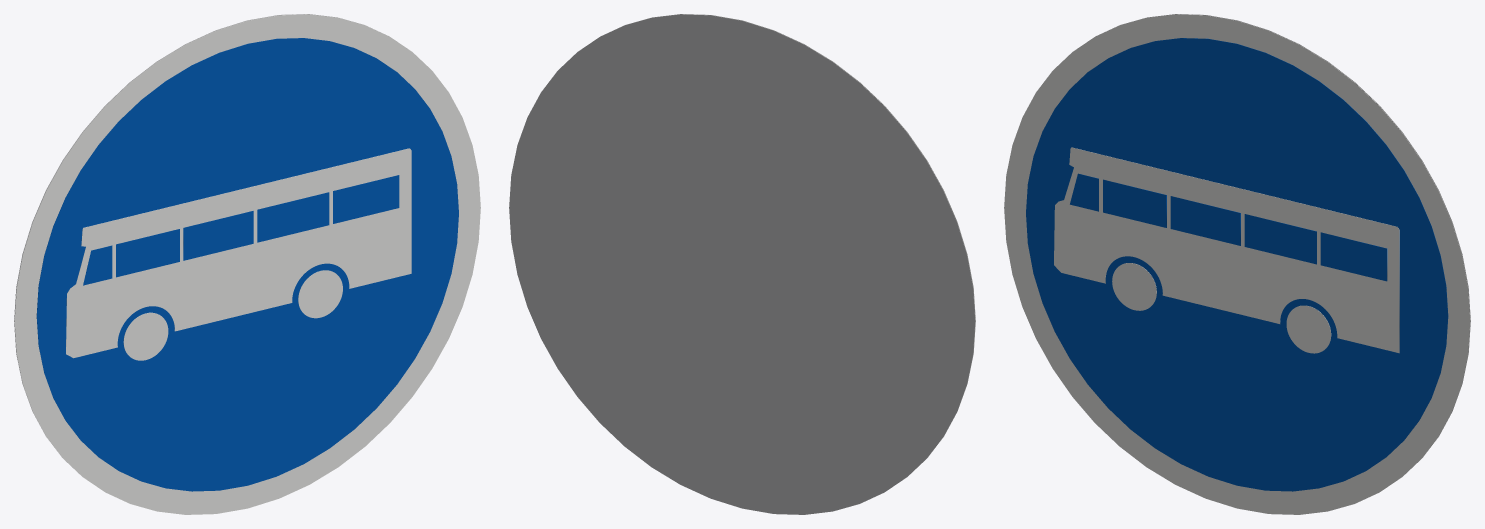
The picture shows the model from 3 angles, left to right: view 1: azimuth 30°, elevation 25°; view 2: azimuth 150°, elevation 25°; view 3: azimuth 330°, elevation 25°; orthographic projection.
Visible parts, largest first — view 1: B27a_p01, B27a_p00, B27a_p06, B27a_p08, B27a_p09, B27a_p07, B27a_p10, B27a_p05, B27a_p04, B27a_p11, B27a_dos; view 2: B27a_dos, B27a_p00; view 3: B27a_p01, B27a_p00, B27a_p06, B27a_p08, B27a_p09, B27a_p07, B27a_p10, B27a_p05, B27a_p04, B27a_p11, B27a_dos.
Part boxes in pixels (x1,y1,x2,y2): B27a_p01: (36,38,458,491); B27a_p00: (14,14,480,514); B27a_p06: (66,148,411,358); B27a_p08: (257,192,329,242); B27a_p09: (183,211,253,260); B27a_p07: (333,175,399,223); B27a_p10: (116,229,179,277); B27a_p05: (298,270,342,318); B27a_p04: (123,312,168,360); B27a_p11: (83,245,112,285); B27a_dos: (14,14,385,473); B27a_dos: (509,14,975,514); B27a_p00: (604,14,975,473); B27a_p01: (1026,38,1448,491); B27a_p00: (1004,14,1470,514); B27a_p06: (1054,147,1399,353); B27a_p08: (1244,214,1316,264); B27a_p09: (1170,196,1240,245); B27a_p07: (1320,232,1387,281); B27a_p10: (1103,179,1166,227); B27a_p05: (1286,305,1331,353); B27a_p04: (1112,263,1156,310); B27a_p11: (1070,173,1098,211); B27a_dos: (1099,14,1470,473).
Size of the model in its own units: 0.85 by 0.8498 by 0.0063.
